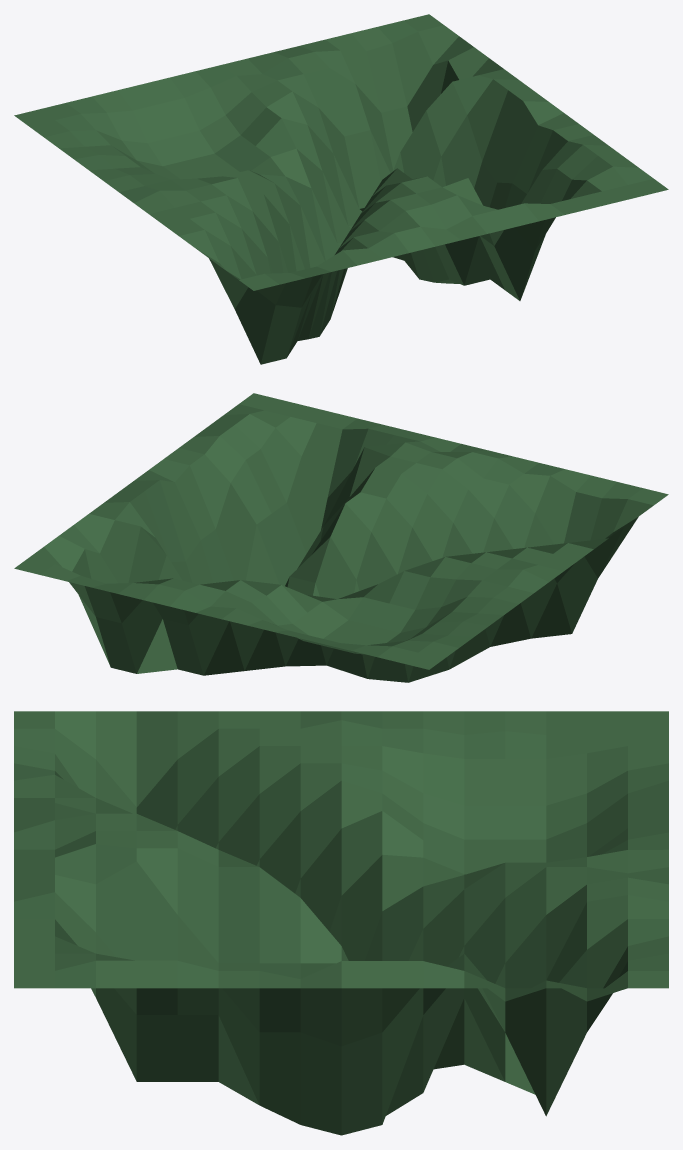
File: Terrain_25_Light_Green.fbx
3 views of the same model, one above another, from view 1: azimuth 30°, elevation 25°; view 2: azimuth 150°, elevation 25°; view 3: azimuth 270°, elevation 25° (orthographic). The views are drawn at different scales.
Parts seen in each view (by area): view 1: Terrain_25_Light_Green; view 2: Terrain_25_Light_Green; view 3: Terrain_25_Light_Green.
Part boxes in pixels (bbox=[...]): Terrain_25_Light_Green: bbox=[14, 14, 668, 364]; Terrain_25_Light_Green: bbox=[14, 393, 668, 682]; Terrain_25_Light_Green: bbox=[14, 711, 668, 1135].
Size of the model in its own units: 5000 by 1992 by 5000.
